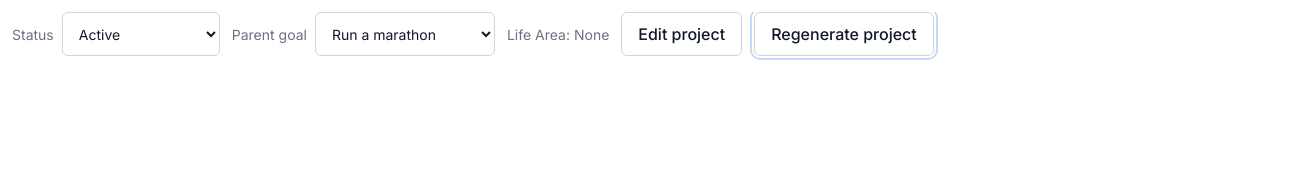
Test case: ProjectDetailClient › surfaces an error when a parent-goal change fails
Select "Launch a newsletter" in the dropdown labelled "Parent goal" at [405, 34], box [315,12,495,56]
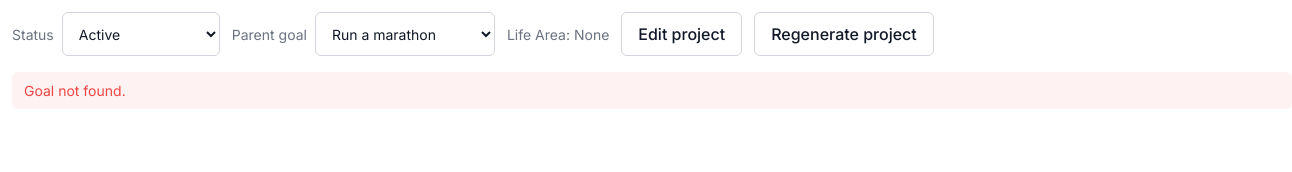
Check: the message reads "Goal not found.", box [24,82,126,99]
